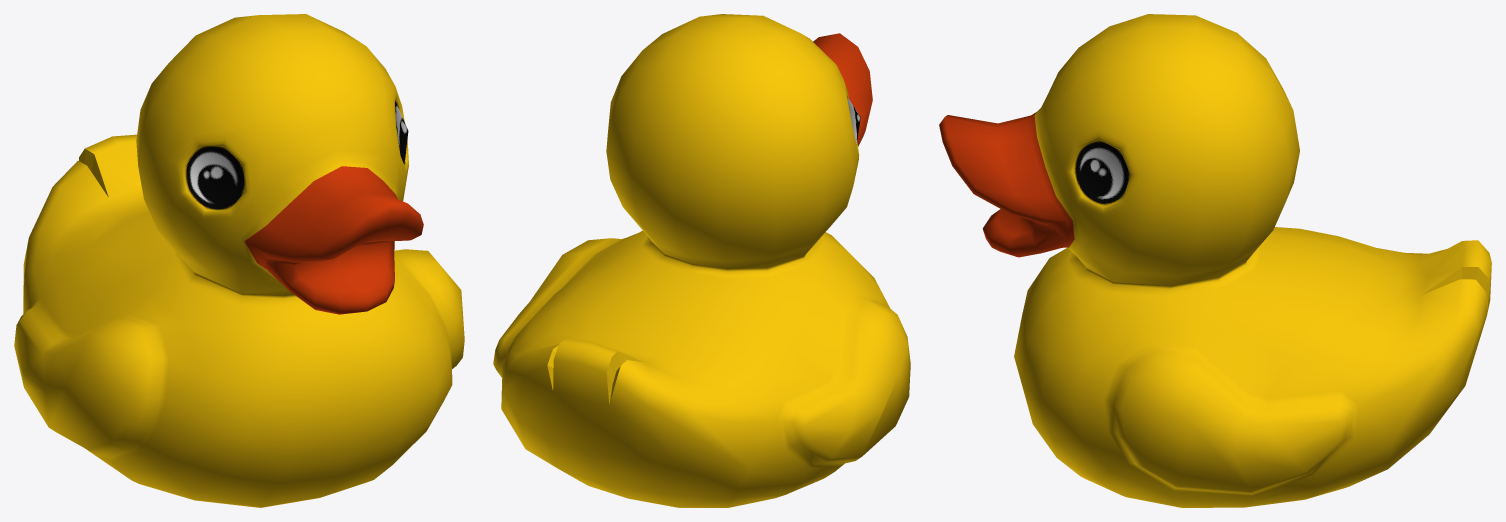
File: 34big_duck.glb
3 views of the same model, side by side, from view 1: azimuth 30°, elevation 25°; view 2: azimuth 150°, elevation 25°; view 3: azimuth 270°, elevation 25° (orthographic). The views are drawn at different scales.
Visible parts, largest first — view 1: Big_Duck; view 2: Big_Duck; view 3: Big_Duck.
Part boxes in pixels (x1,y1,x2,y2): Big_Duck: (14,14,464,507); Big_Duck: (493,14,910,507); Big_Duck: (939,14,1491,507).
Bounding box in the file's own units: 9.56 × 10.32 × 12.09.
Materials: 1 (1 with a texture image).
